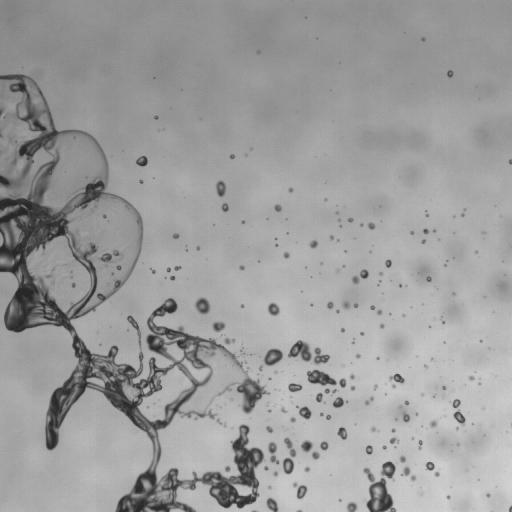droplet: (363, 461, 396, 511), (263, 348, 282, 365), (195, 297, 210, 314), (292, 482, 307, 498), (401, 466, 416, 481), (297, 406, 311, 419), (266, 497, 278, 511), (389, 373, 404, 383), (216, 180, 225, 196), (268, 302, 279, 315), (301, 440, 312, 452), (212, 322, 225, 332), (333, 397, 346, 407), (288, 383, 302, 392), (337, 427, 347, 439), (136, 156, 147, 166), (346, 501, 357, 511), (320, 441, 328, 450), (425, 462, 434, 470), (315, 392, 322, 402), (403, 412, 410, 422), (224, 338, 235, 344), (309, 240, 317, 248), (429, 420, 437, 428), (365, 445, 372, 454), (221, 203, 228, 211), (312, 451, 319, 459), (389, 437, 398, 443), (274, 204, 281, 211), (326, 301, 333, 308), (342, 301, 349, 308), (385, 259, 391, 267), (447, 70, 453, 77), (368, 222, 374, 229), (283, 252, 289, 258), (266, 426, 272, 432), (45, 273, 52, 278), (172, 233, 178, 238), (468, 375, 474, 380), (280, 407, 286, 412), (400, 456, 405, 462), (423, 229, 428, 234), (239, 265, 244, 270), (426, 276, 431, 281), (350, 385, 355, 390), (290, 417, 295, 422), (225, 466, 230, 471), (174, 266, 180, 270), (304, 467, 310, 471), (100, 231, 104, 236), (170, 275, 174, 280), (377, 310, 382, 314), (350, 374, 354, 379), (326, 414, 330, 419), (371, 427, 376, 431), (434, 472, 439, 476), (421, 37, 425, 41), (154, 115, 158, 119), (230, 154, 234, 158), (288, 188, 292, 192), (348, 218, 352, 222), (421, 239, 425, 243), (151, 269, 155, 273), (166, 268, 170, 272), (370, 305, 374, 309), (380, 324, 384, 328), (341, 328, 345, 332), (356, 354, 360, 358), (382, 445, 386, 449), (264, 466, 268, 470), (486, 493, 490, 497), (446, 495, 450, 499), (274, 471, 277, 476), (508, 506, 511, 511), (330, 235, 333, 239), (71, 283, 75, 286), (354, 303, 357, 307), (259, 366, 262, 370), (374, 385, 377, 389), (392, 384, 395, 388), (509, 159, 511, 164), (461, 213, 464, 216), (379, 272, 382, 275), (241, 304, 244, 307), (405, 401, 408, 404), (392, 429, 395, 432), (0, 133, 2, 137), (441, 321, 445, 323), (139, 180, 142, 182), (242, 220, 244, 223), (411, 231, 413, 234), (196, 247, 199, 249), (70, 275, 72, 278), (399, 284, 401, 287), (336, 310, 339, 312), (361, 332, 363, 335), (425, 365, 427, 368), (268, 409, 270, 412), (268, 486, 271, 488), (426, 214, 428, 216), (433, 230, 435, 232), (431, 358, 433, 360), (443, 386, 445, 388), (320, 413, 322, 415)
ligament: (0, 75, 269, 511), (288, 340, 329, 365), (306, 369, 346, 387), (282, 437, 295, 474), (127, 315, 141, 348), (451, 399, 465, 426), (352, 269, 368, 284), (268, 442, 279, 463), (365, 396, 373, 405), (216, 419, 226, 426), (324, 388, 337, 393), (98, 211, 106, 219), (0, 104, 4, 115), (418, 441, 422, 449), (61, 192, 64, 197), (252, 510, 257, 511), (297, 510, 302, 511)
